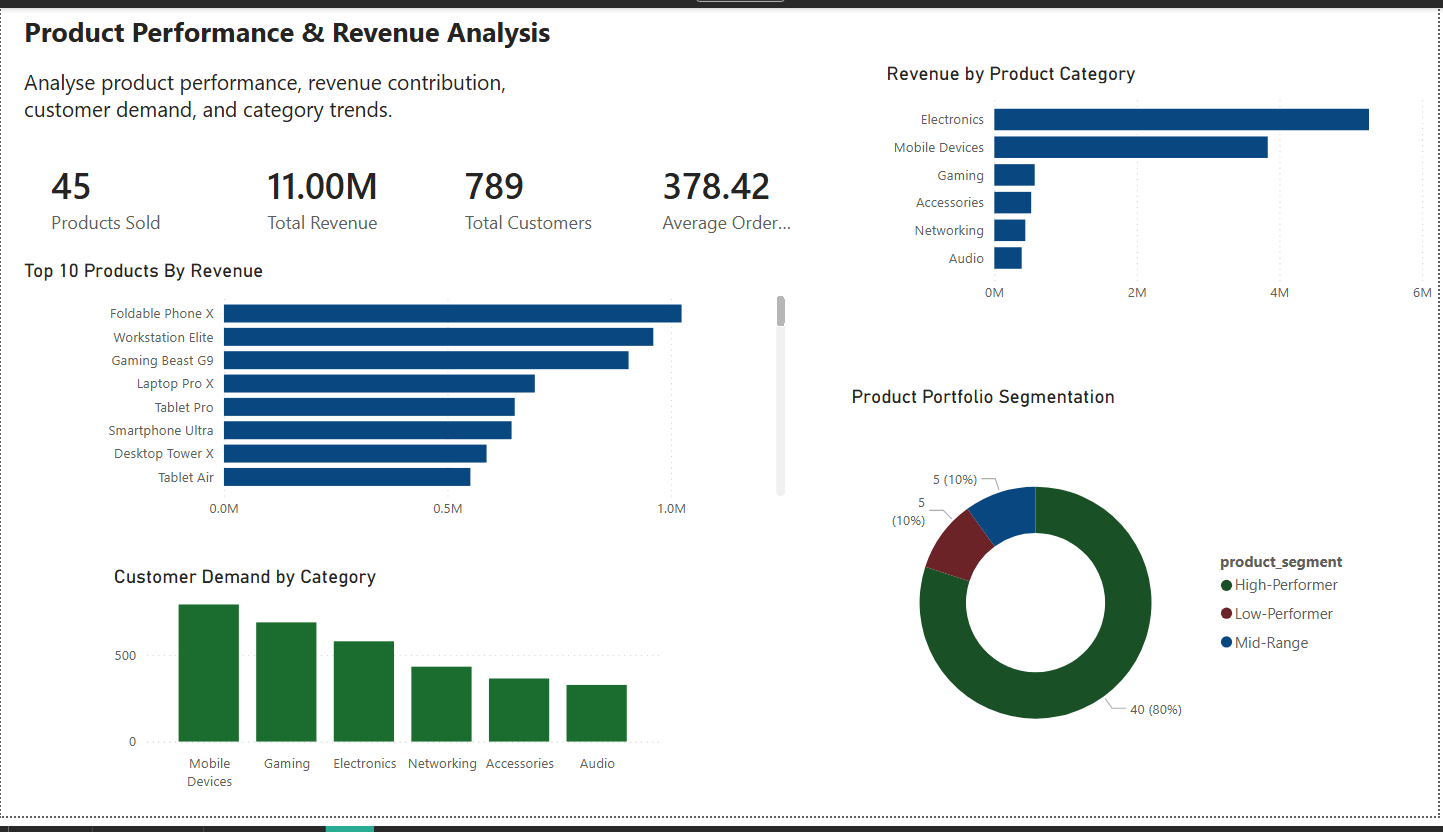

Layout of this report page (visuals, bound fields, positions):
{"tool":"powerbi","page":{"name":"Products","canvas":[1280,720],"ordinal":1},"visuals":[{"type":"textbox","box":[16,0,480,48],"z":0},{"type":"textbox","box":[16,48,480,64],"z":1000},{"type":"cardVisual","fields":{"Data":["Count(gold products_summary.total_products_sold)"]},"box":[16,112,176,112],"z":2000},{"type":"cardVisual","fields":{"Data":["Sum(gold products_summary.total_sales)"]},"box":[208,112,176,112],"z":3000},{"type":"cardVisual","fields":{"Data":["Max(gold products_summary.total_customers)"]},"box":[384,112,176,112],"z":4000},{"type":"cardVisual","fields":{"Data":["Avg(gold products_summary.avg_order_revenue)"]},"box":[560,112,176,112],"z":5000},{"type":"barChart","title":"Top 10 Products By Revenue","fields":{"Category":["gold products_summary.product_name"],"Y":["Sum(gold products_summary.total_sales)"]},"box":[16,224,688,240],"z":6000},{"type":"clusteredColumnChart","title":"Customer Demand by Category","fields":{"Category":["gold products_summary.category"],"Y":["Max(gold products_summary.total_customers)"]},"box":[96,496,496,208],"z":7000},{"type":"clusteredBarChart","title":"Revenue by Product Category","fields":{"Category":["gold products_summary.category"],"Y":["Sum(gold products_summary.total_sales)"]},"box":[784,48,496,224],"z":8000},{"type":"donutChart","title":"Product Portfolio Segmentation","fields":{"Category":["gold products_summary.product_segment"],"Y":["CountNonNull(gold products_summary.product_id)"]},"box":[752,336,464,368],"z":9000}]}

Visuals, with their boxes in screenshot pixels (x1, y1, x2, y2), scaled from the page's 1280x720 canvas onto the 1443x832 screenshot:
textbox: [x1=18, y1=0, x2=559, y2=55]
textbox: [x1=18, y1=55, x2=559, y2=129]
cardVisual - Count(gold products_summary.total_products_sold): [x1=18, y1=129, x2=216, y2=259]
cardVisual - Sum(gold products_summary.total_sales): [x1=234, y1=129, x2=433, y2=259]
cardVisual - Max(gold products_summary.total_customers): [x1=433, y1=129, x2=631, y2=259]
cardVisual - Avg(gold products_summary.avg_order_revenue): [x1=631, y1=129, x2=830, y2=259]
"Top 10 Products By Revenue" barChart: [x1=18, y1=259, x2=794, y2=536]
"Customer Demand by Category" clusteredColumnChart: [x1=108, y1=573, x2=667, y2=814]
"Revenue by Product Category" clusteredBarChart: [x1=884, y1=55, x2=1442, y2=314]
"Product Portfolio Segmentation" donutChart: [x1=848, y1=388, x2=1371, y2=814]
